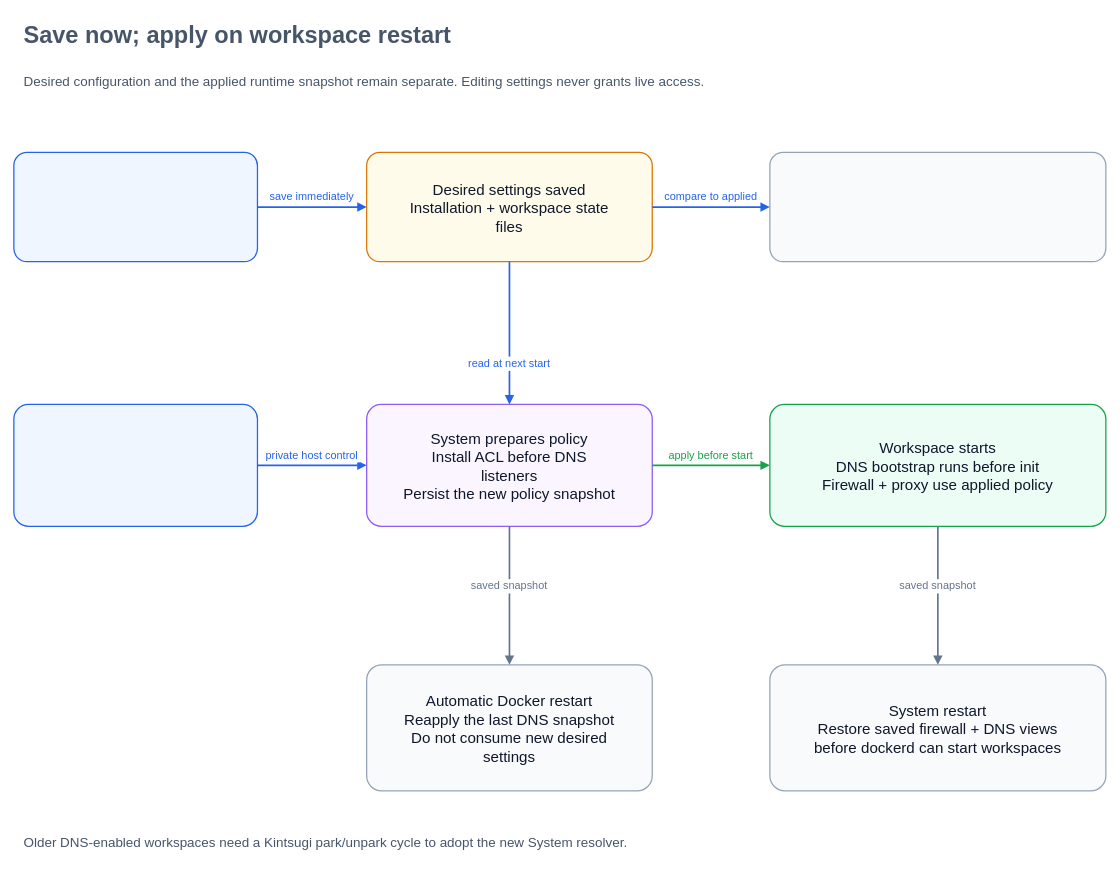
This 1120x872 diagram has some shape labels left out. The centre of each missing label's shape, as x and y in pixels:
Park → unpark Terminal and VS Code views close: point 135,465
Restart needed Existing workspace keeps its previous applied permissions: point 937,206
Settings UI / admin API CIDRs, DNS, search + workspace mode: point 135,206
